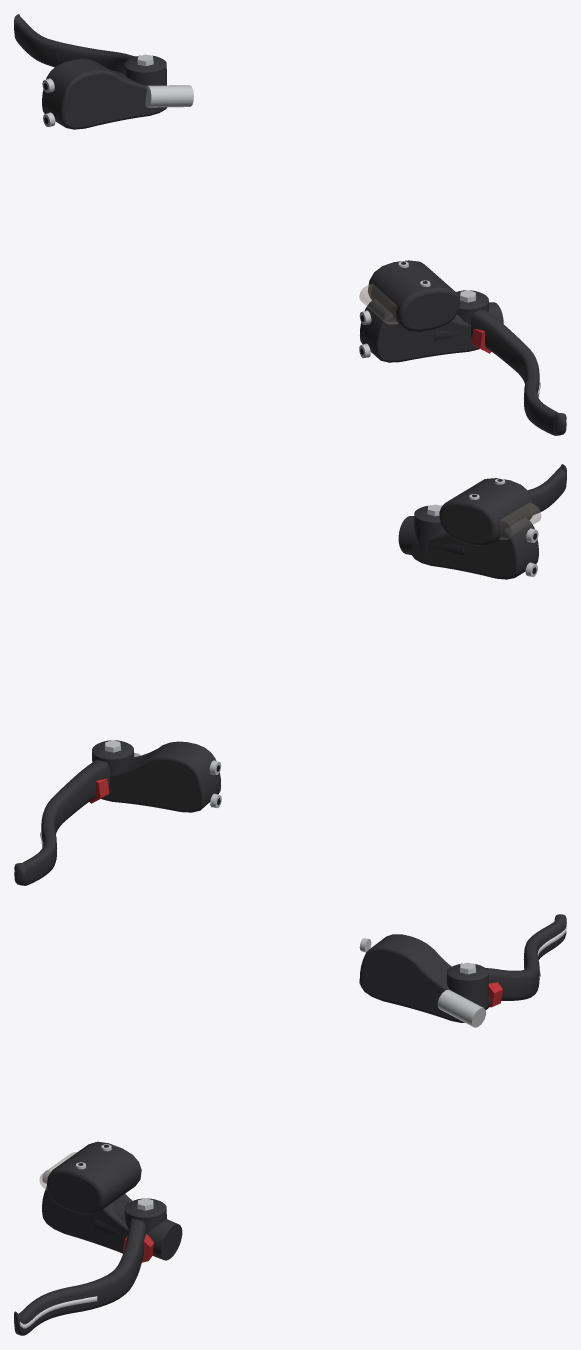
Rendered from short.glb.
3 renders of one model, top to bottom at view 1: azimuth 30°, elevation 25°; view 2: azimuth 150°, elevation 25°; view 3: azimuth 330°, elevation 25°, orthographic.
Visible parts, largest first — view 1: levers_short; view 2: levers_short; view 3: levers_short.
Boxes of the visible parts, left/top/right/bottom form: levers_short: left=14, top=14, right=566, bottom=435; levers_short: left=14, top=464, right=566, bottom=885; levers_short: left=14, top=914, right=566, bottom=1335.
Size of the model in its own units: 0.0908 by 0.0624 by 0.6467.
